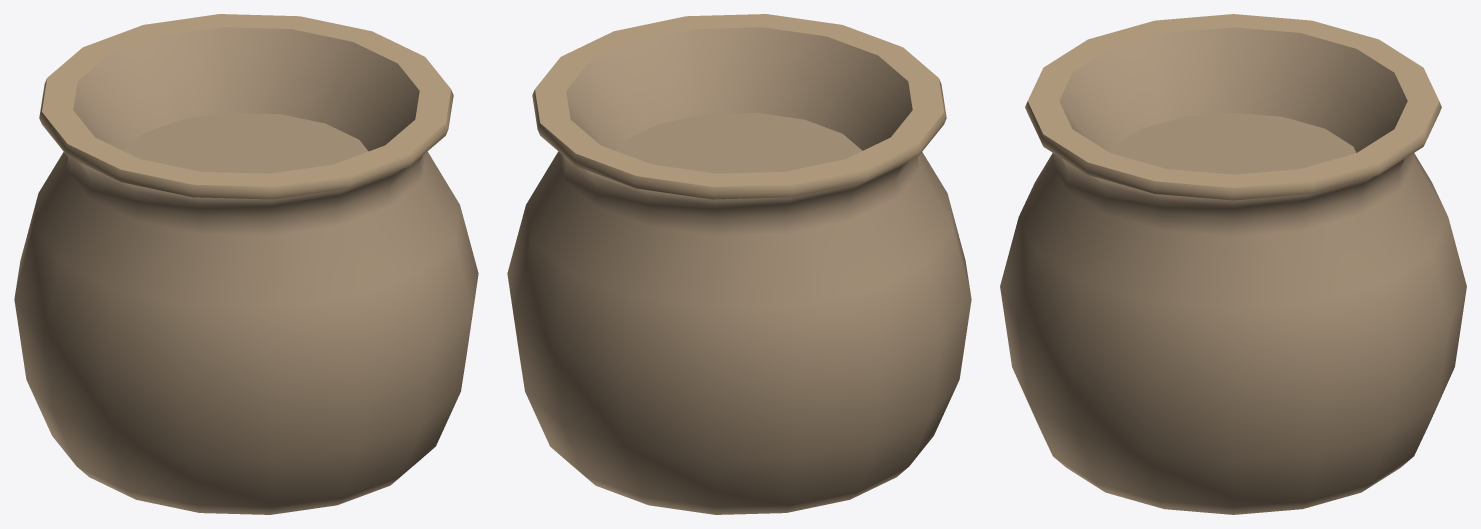
The model's file is Pot_2.fbx.
The picture shows the model from 3 angles, left to right: view 1: azimuth 30°, elevation 25°; view 2: azimuth 150°, elevation 25°; view 3: azimuth 270°, elevation 25°; orthographic projection.
Visible parts, largest first — view 1: Pot_2; view 2: Pot_2; view 3: Pot_2.
Part boxes in pixels (x1,y1,x2,y2): Pot_2: (14,14,478,514); Pot_2: (507,14,971,514); Pot_2: (1000,14,1466,514).
Size of the model in its own units: 65.09 by 52.79 by 65.09.
